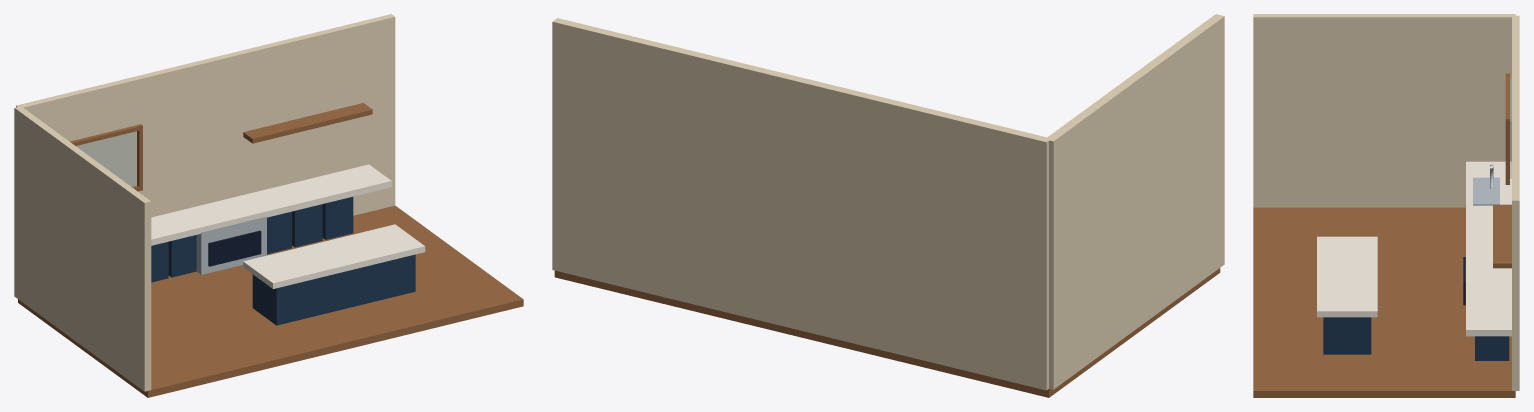
File: kitchen-a.glb
3 renders of one model, left to right at view 1: azimuth 30°, elevation 25°; view 2: azimuth 150°, elevation 25°; view 3: azimuth 270°, elevation 25°, orthographic. The views are drawn at different scales.
Parts seen in each view (by area): view 1: architecture_wall_back, architecture_wall_left, architecture_floor, counter_back, counter_island_base, counter_island_top, shelf_open, window_glass, cooker_body, cooker_oven_door, cabinet_lower_80, cabinet_lower_72 (+4 smaller); view 2: architecture_wall_back, architecture_wall_left, architecture_floor; view 3: architecture_wall_left, architecture_floor, counter_back, counter_island_top, architecture_wall_back, counter_island_base, shelf_open, cabinet_lower_80, fixture_sink_basin, window_frame_right.
Boxes of the visible parts, x1=… form: architecture_wall_back: x1=16, y1=14, x2=395, y2=217; architecture_wall_left: x1=14, y1=106, x2=151, y2=391; architecture_floor: x1=18, y1=205, x2=523, y2=397; counter_back: x1=151, y1=164, x2=391, y2=245; counter_island_base: x1=252, y1=254, x2=415, y2=325; counter_island_top: x1=243, y1=224, x2=425, y2=288; shelf_open: x1=243, y1=103, x2=372, y2=143; window_glass: x1=76, y1=131, x2=135, y2=186; cooker_body: x1=196, y1=216, x2=266, y2=274; cooker_oven_door: x1=208, y1=230, x2=261, y2=266; cabinet_lower_80: x1=322, y1=196, x2=353, y2=239; cabinet_lower_72: x1=292, y1=204, x2=322, y2=247; architecture_wall_back: x1=552, y1=18, x2=1051, y2=390; architecture_wall_left: x1=1045, y1=14, x2=1224, y2=389; architecture_floor: x1=554, y1=268, x2=1220, y2=397; architecture_wall_left: x1=1253, y1=14, x2=1515, y2=207; architecture_floor: x1=1253, y1=207, x2=1515, y2=397; counter_back: x1=1466, y1=161, x2=1511, y2=336; counter_island_top: x1=1317, y1=236, x2=1377, y2=317; architecture_wall_back: x1=1512, y1=15, x2=1519, y2=390; counter_island_base: x1=1323, y1=317, x2=1371, y2=354; shelf_open: x1=1493, y1=204, x2=1511, y2=268; cabinet_lower_80: x1=1475, y1=336, x2=1509, y2=360; fixture_sink_basin: x1=1473, y1=177, x2=1499, y2=205; window_frame_right: x1=1505, y1=117, x2=1509, y2=184.
Bounding box in the file's own units: 10.09 × 4.98 × 6.09.
